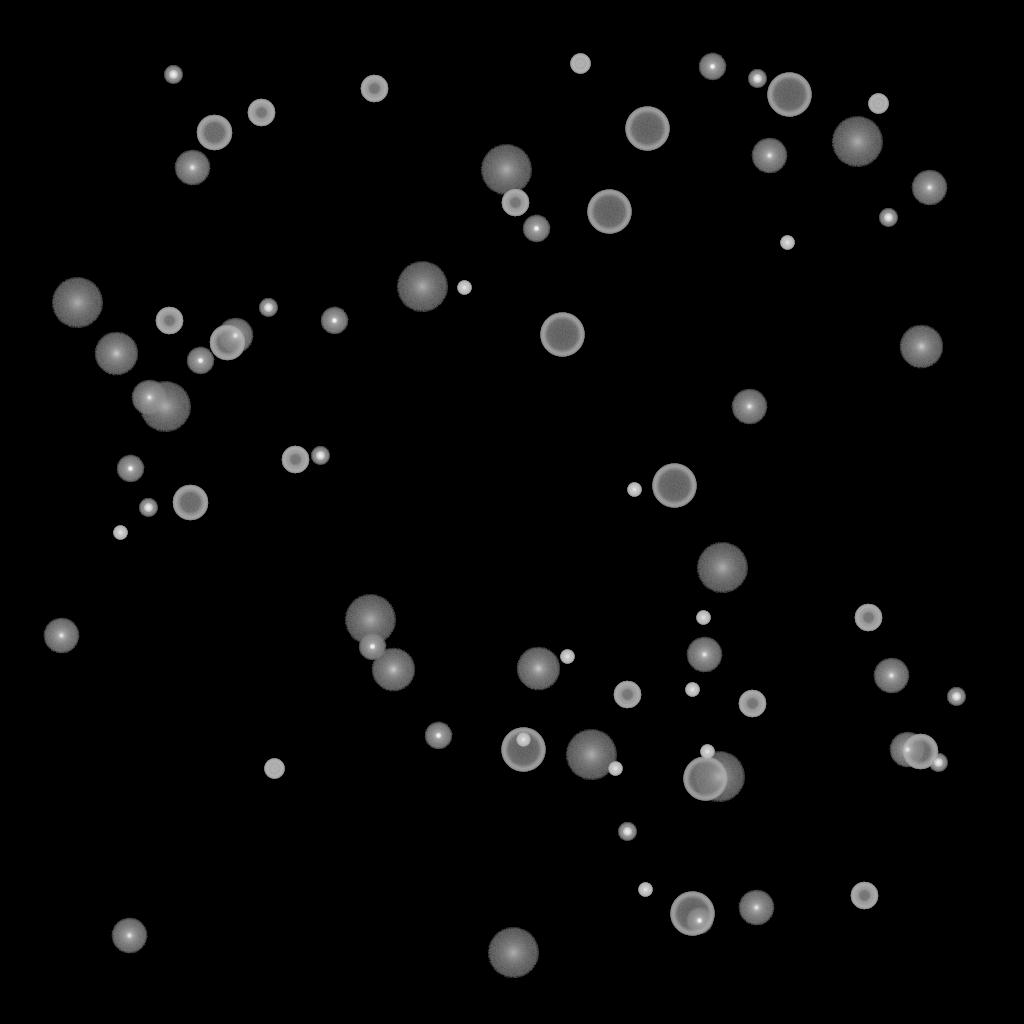depth:-10: (116, 455, 144, 483), (685, 907, 713, 935), (186, 347, 214, 375), (358, 633, 386, 661), (424, 722, 452, 750), (522, 215, 550, 243), (320, 307, 348, 335), (698, 53, 726, 81)
depth:-20: (164, 66, 182, 84), (929, 754, 947, 772), (748, 70, 766, 88), (259, 299, 277, 317), (947, 688, 965, 706), (139, 499, 157, 517), (311, 447, 329, 465), (618, 823, 636, 841), (879, 209, 897, 227)
depth:-30: (685, 683, 699, 697), (113, 526, 127, 540), (700, 745, 714, 759), (780, 236, 794, 250), (560, 650, 574, 664), (638, 883, 652, 897), (608, 762, 622, 776), (457, 281, 471, 295), (516, 733, 530, 747), (627, 483, 641, 497), (696, 611, 710, 625)
depth:-40: (570, 54, 590, 74), (868, 94, 888, 114), (264, 759, 284, 779)
depth:-50: (854, 604, 882, 632), (360, 75, 388, 103), (247, 99, 275, 127), (850, 882, 878, 910), (613, 681, 641, 709), (738, 690, 766, 718), (281, 446, 309, 474), (155, 307, 183, 335), (501, 189, 529, 217)
depth:-60: (196, 115, 232, 151), (902, 734, 938, 770), (209, 325, 245, 361), (172, 485, 208, 521)
depth:-70: (767, 73, 811, 117), (587, 190, 631, 234), (501, 728, 545, 772), (540, 313, 584, 357), (652, 464, 696, 508), (670, 892, 714, 936), (683, 757, 727, 801), (625, 107, 669, 151)
depth:0: (731, 389, 767, 425), (751, 138, 787, 174), (217, 318, 253, 354), (686, 637, 722, 673), (43, 618, 79, 654), (911, 170, 947, 206), (111, 918, 147, 954), (889, 732, 925, 768), (131, 380, 167, 416), (873, 658, 909, 694), (174, 150, 210, 186), (738, 890, 774, 926)
depth:10: (371, 648, 415, 692), (94, 332, 138, 376), (899, 325, 943, 369), (516, 647, 560, 691)
depth:20: (480, 145, 532, 195), (487, 928, 539, 978), (396, 262, 448, 312), (51, 278, 103, 328), (696, 543, 748, 593), (565, 730, 617, 780), (831, 117, 883, 167), (344, 595, 396, 645), (693, 752, 745, 802), (139, 382, 191, 432)
